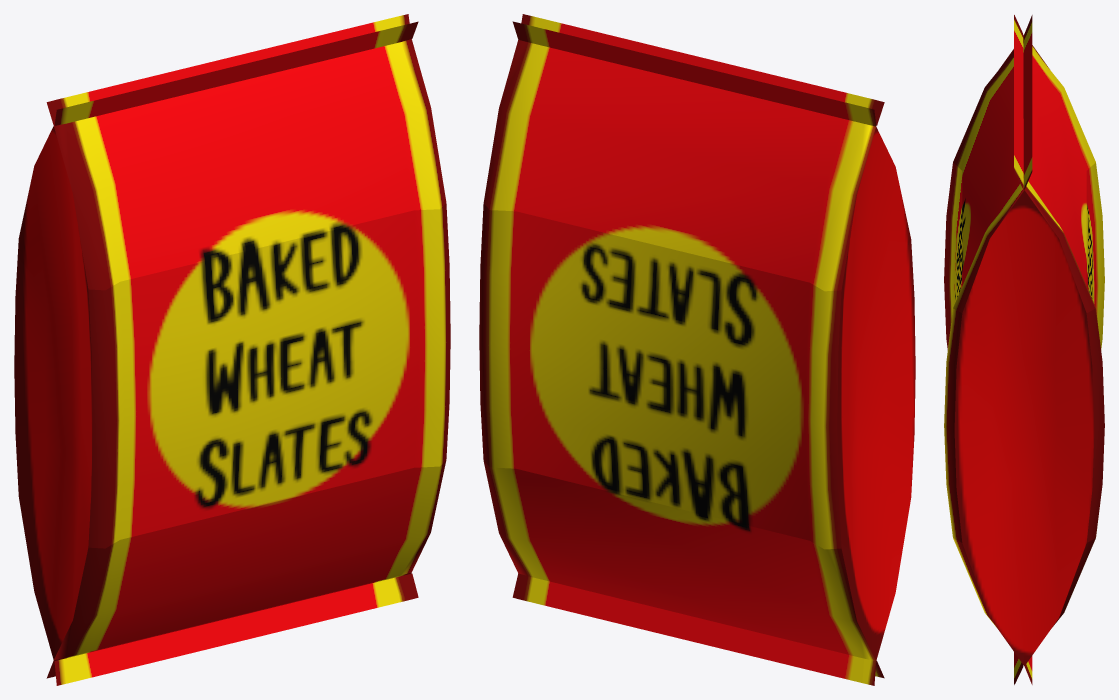
The model's file is Crackers.FBX.
The picture shows the model from 3 angles, left to right: view 1: azimuth 30°, elevation 25°; view 2: azimuth 150°, elevation 25°; view 3: azimuth 270°, elevation 25°; orthographic projection. The views are drawn at different scales.
Parts seen in each view (by area): view 1: Crackers; view 2: Crackers; view 3: Crackers.
Part boxes in pixels (x1,y1,x2,y2): Crackers: (14, 14, 450, 685); Crackers: (479, 14, 915, 685); Crackers: (944, 15, 1104, 684).
Size of the model in its own units: 2377 by 1026 by 3619.
1 material, 1 textured.
